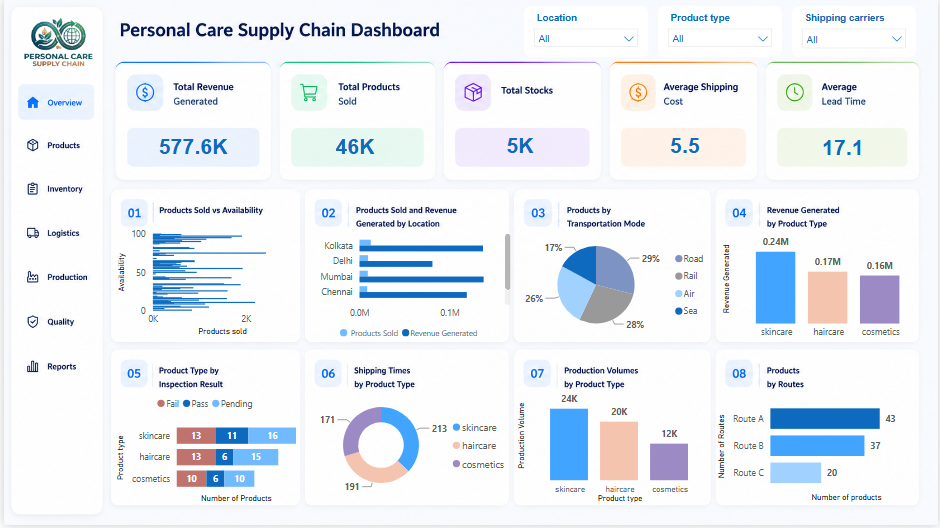

Layout of this report page (visuals, bound fields, positions):
{"tool":"powerbi","page":{"name":"Personal Care Supply Chain Dashboard","canvas":[1280,720],"ordinal":0},"visuals":[{"type":"cardVisual","fields":{"Data":["DAX.Total Revenue Generated"]},"box":[171.2,167.1,176.2,68.8],"z":0},{"type":"cardVisual","fields":{"Data":["DAX.Total Products Sold"]},"box":[405,169.6,151.2,63.8],"z":1000},{"type":"cardVisual","fields":{"Data":["DAX.Average Lead Time"]},"box":[1036.2,162.8,227.5,77.5],"z":2000},{"type":"cardVisual","fields":{"Data":["DAX.Average Shipping Costs"]},"box":[860,153.8,145,93.8],"z":3000},{"type":"cardVisual","fields":{"Data":["DAX.Total Stocks"]},"box":[626.2,167.5,162.5,66.2],"z":4000},{"type":"image","box":[0,0,148.8,115],"z":5000},{"type":"slicer","fields":{"Values":["Dim_ProductType.Product type"]},"box":[895.3,10,170,70],"z":6000},{"type":"slicer","fields":{"Values":["Dim_Location.Location"]},"box":[712.7,10,170,70],"z":7000},{"type":"slicer","fields":{"Values":["Dim_Carrier.Shipping carriers"]},"box":[1080,10,170,70],"z":8000},{"type":"barChart","fields":{"Y":["DAX.Total Products Sold"],"Category":["Fact_SupplyChain.Availability"]},"box":[150,308.8,256.2,157.5],"z":9000},{"type":"clusteredBarChart","fields":{"Y":["DAX.Total Products Sold","DAX.Total Revenue Generated"],"Category":["Dim_Location.Location"]},"box":[413.6,308.2,285.5,166.4],"z":10000},{"type":"pieChart","fields":{"Category":["Dim_ProductType.Product type"],"Y":["CountNonNull(Dim_TransportMode.Transportation modes)"]},"box":[699.1,314.5,273.6,152.7],"z":11000},{"type":"columnChart","fields":{"Category":["Dim_ProductType.Product type"],"Y":["DAX.Total Revenue Generated"]},"box":[980,308.2,283.6,166.4],"z":12000},{"type":"barChart","fields":{"Y":["CountNonNull(Dim_ProductType.Product type)"],"Category":["Dim_InspectionResult.Inspection results"]},"box":[149.2,522.5,255.8,165],"z":13000},{"type":"donutChart","fields":{"Y":["Sum(Fact_SupplyChain.Shipping times)"],"Category":["Dim_ProductType.Product type"]},"box":[413.6,533.6,285.5,153.6],"z":14000},{"type":"clusteredBarChart","fields":{"Y":["DAX.Total Production Volume"],"Category":["Dim_ProductType.Product type"]},"box":[699.1,522.7,273.6,170.9],"z":15000},{"type":"clusteredColumnChart","fields":{"Category":["Dim_ProductType.Product type"],"Y":["CountNonNull(Dim_Route.Routes)"]},"box":[972.7,533.3,291.3,160.7],"z":16000}]}

Visuals, with their boxes on the page's 1280x720 design canvas (x1, y1, x2, y2). These are canvas units, not pixel positions in the 940x528 screenshot, which may show the page scaled, cropped or inside an application window:
cardVisual - DAX.Total Revenue Generated: left=171, top=167, right=347, bottom=236
cardVisual - DAX.Total Products Sold: left=405, top=170, right=556, bottom=233
cardVisual - DAX.Average Lead Time: left=1036, top=163, right=1264, bottom=240
cardVisual - DAX.Average Shipping Costs: left=860, top=154, right=1005, bottom=248
cardVisual - DAX.Total Stocks: left=626, top=168, right=789, bottom=234
image: left=0, top=0, right=149, bottom=115
slicer - Dim_ProductType.Product type: left=895, top=10, right=1065, bottom=80
slicer - Dim_Location.Location: left=713, top=10, right=883, bottom=80
slicer - Dim_Carrier.Shipping carriers: left=1080, top=10, right=1250, bottom=80
barChart - DAX.Total Products Sold x Fact_SupplyChain.Availability: left=150, top=309, right=406, bottom=466
clusteredBarChart - DAX.Total Products Sold x DAX.Total Revenue Generated: left=414, top=308, right=699, bottom=475
pieChart - Dim_ProductType.Product type x CountNonNull(Dim_TransportMode.Transportation modes): left=699, top=314, right=973, bottom=467
columnChart - Dim_ProductType.Product type x DAX.Total Revenue Generated: left=980, top=308, right=1264, bottom=475
barChart - CountNonNull(Dim_ProductType.Product type) x Dim_InspectionResult.Inspection results: left=149, top=522, right=405, bottom=688
donutChart - Sum(Fact_SupplyChain.Shipping times) x Dim_ProductType.Product type: left=414, top=534, right=699, bottom=687
clusteredBarChart - DAX.Total Production Volume x Dim_ProductType.Product type: left=699, top=523, right=973, bottom=694
clusteredColumnChart - Dim_ProductType.Product type x CountNonNull(Dim_Route.Routes): left=973, top=533, right=1264, bottom=694
